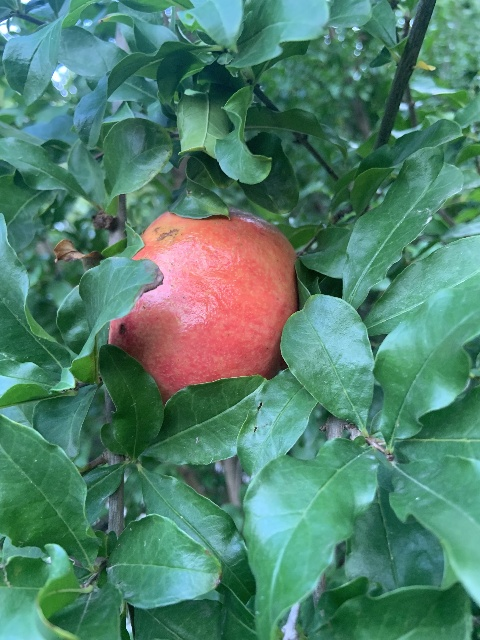ripe: (109, 212, 298, 407)
